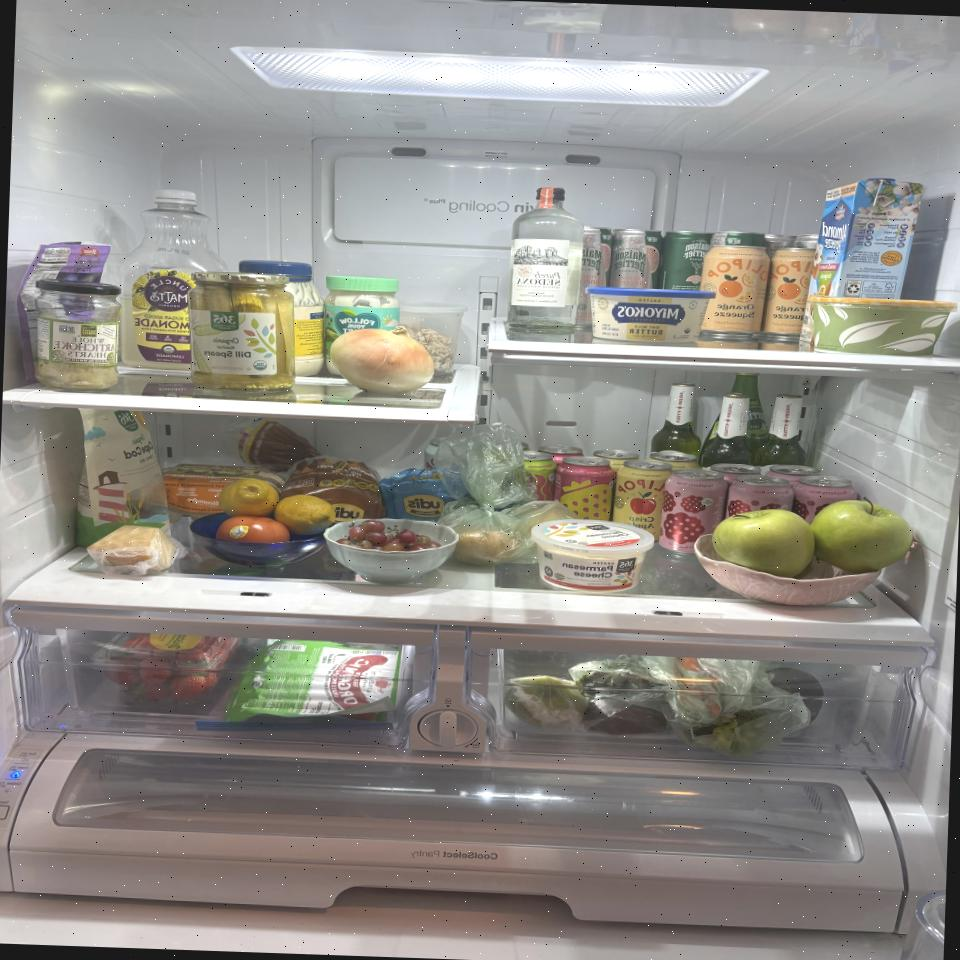Limón: (276, 494, 334, 534), (220, 478, 278, 516)
Mantequilla: (583, 286, 717, 344)
Manzana: (811, 499, 914, 574), (712, 508, 814, 578)
Queso: (86, 523, 178, 572)
Tomate: (335, 518, 444, 556), (216, 514, 289, 544)
mayonnaise: (233, 259, 326, 378)
strawberries: (96, 628, 240, 710)
